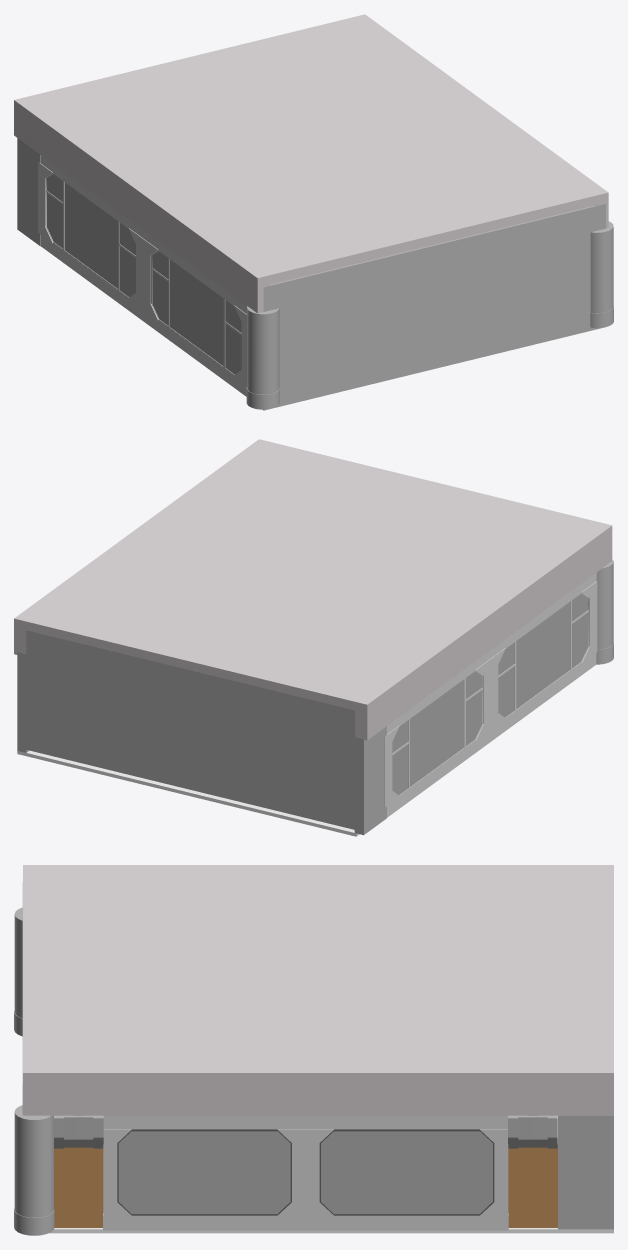
Rendered from floor4.glb.
3 views of the same model, one above another, from view 1: azimuth 30°, elevation 25°; view 2: azimuth 150°, elevation 25°; view 3: azimuth 270°, elevation 25° (orthographic). The views are drawn at different scales.
Parts seen in each view (by area): view 1: pCube82_pared_enfrente_0_902, pCube80_blanco_0_900, pCube67_mia_material_x1_0_880, pCube66_mia_material_x1_0_878, pCylinder6_paredText_0_906, pCylinder4_paredText_0_904, pCube56_blanco_0_939, pCube39_paredText_0.002_858, pCube39_paredText_0.001_871, pCube41_paredText_0.002_862, pCube41_paredText_0.001_875, pPipe7_cafe_0_866 (+4 smaller); view 2: pCube82_pared_enfrente_0_902, pCube2_pared_enfrente_0_883, pCube66_mia_material_x1_0_878, pCube67_mia_material_x1_0_880, pCube56_blanco_0_939, pCube36_suelo_text_0_949, pCylinder6_paredText_0_906, pCube39_paredText_0.001_871, pCube39_paredText_0.002_858, pCube45_pared_enfrente_0_935, pCube41_paredText_0.001_875, pCube41_paredText_0.002_862 (+6 smaller); view 3: pCube82_pared_enfrente_0_902, pCube70_mia_material_x1_0.001_851, pCube70_mia_material_x1_0_838, pCube45_pared_enfrente_0_935, pCylinder4_paredText_0_904, pCube78_puerta_0_941, pCube81_puerta_0_946, pCube39_paredText_0_832, pCube39_paredText_0.003_845, pCube41_paredText_0_836, pCube41_paredText_0.003_849, pCube48_paredText_0_937 (+11 smaller).
Boxes of the visible parts, x1=… form: pCube82_pared_enfrente_0_902: x1=14, y1=14, x2=608, y2=313; pCube80_blanco_0_900: x1=263, y1=204, x2=605, y2=410; pCube67_mia_material_x1_0_880: x1=152, y1=251, x2=241, y2=374; pCube66_mia_material_x1_0_878: x1=47, y1=174, x2=135, y2=297; pCylinder6_paredText_0_906: x1=246, y1=306, x2=279, y2=409; pCylinder4_paredText_0_904: x1=590, y1=221, x2=613, y2=328; pCube56_blanco_0_939: x1=17, y1=138, x2=40, y2=246; pCube39_paredText_0.002_858: x1=41, y1=235, x2=143, y2=321; pCube39_paredText_0.001_871: x1=144, y1=310, x2=246, y2=396; pCube41_paredText_0.002_862: x1=41, y1=155, x2=143, y2=238; pCube41_paredText_0.001_875: x1=144, y1=231, x2=247, y2=313; pPipe7_cafe_0_866: x1=151, y1=250, x2=241, y2=375; pCube82_pared_enfrente_0_902: x1=14, y1=439, x2=612, y2=740; pCube2_pared_enfrente_0_883: x1=26, y1=630, x2=354, y2=829; pCube66_mia_material_x1_0_878: x1=392, y1=671, x2=481, y2=795; pCube67_mia_material_x1_0_880: x1=498, y1=593, x2=587, y2=717; pCube56_blanco_0_939: x1=354, y1=726, x2=386, y2=835; pCube36_suelo_text_0_949: x1=17, y1=750, x2=359, y2=836; pCylinder6_paredText_0_906: x1=596, y1=559, x2=613, y2=664; pCube39_paredText_0.001_871: x1=490, y1=653, x2=596, y2=741; pCube39_paredText_0.002_858: x1=387, y1=731, x2=490, y2=817; pCube45_pared_enfrente_0_935: x1=17, y1=651, x2=29, y2=752; pCube41_paredText_0.001_875: x1=490, y1=573, x2=596, y2=658; pCube41_paredText_0.002_862: x1=387, y1=651, x2=490, y2=734; pCube82_pared_enfrente_0_902: x1=23, y1=865, x2=613, y2=1115; pCube70_mia_material_x1_0.001_851: x1=118, y1=1131, x2=290, y2=1213; pCube70_mia_material_x1_0_838: x1=321, y1=1131, x2=492, y2=1213; pCube45_pared_enfrente_0_935: x1=558, y1=1116, x2=613, y2=1229; pCylinder4_paredText_0_904: x1=14, y1=1105, x2=54, y2=1235; pCube78_puerta_0_941: x1=508, y1=1144, x2=557, y2=1227; pCube81_puerta_0_946: x1=54, y1=1147, x2=103, y2=1227; pCube39_paredText_0_832: x1=305, y1=1213, x2=508, y2=1230; pCube39_paredText_0.003_845: x1=103, y1=1213, x2=305, y2=1230; pCube41_paredText_0_836: x1=305, y1=1116, x2=507, y2=1129; pCube41_paredText_0.003_849: x1=103, y1=1116, x2=305, y2=1129; pCube48_paredText_0_937: x1=508, y1=1115, x2=557, y2=1148.
Bounding box in the file's own units: 12.67 × 4.46 × 14.95.
